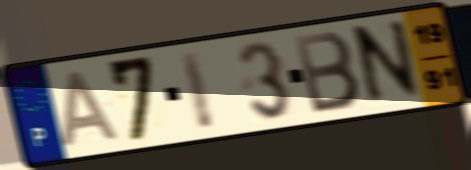3: (234, 38, 296, 124)
7: (104, 53, 158, 146)
A: (60, 68, 122, 151)
B: (291, 29, 364, 117)
I: (177, 48, 218, 134)
N: (353, 15, 424, 111)
